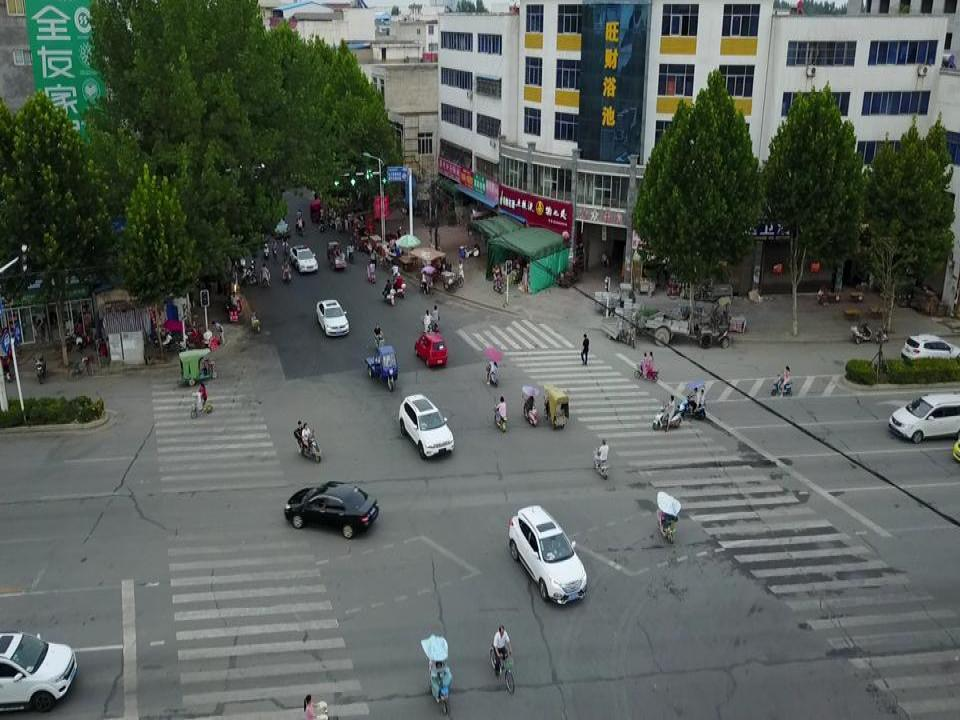car: (508, 504, 589, 604), (2, 632, 76, 711), (283, 479, 380, 537), (397, 393, 454, 459), (887, 393, 960, 443), (899, 333, 960, 371), (316, 299, 349, 336), (414, 333, 448, 368), (289, 244, 319, 273), (266, 215, 291, 237)
